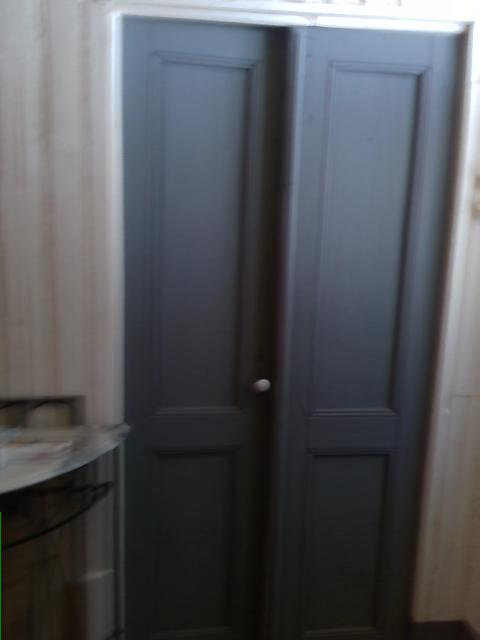door: (112, 2, 479, 638)
